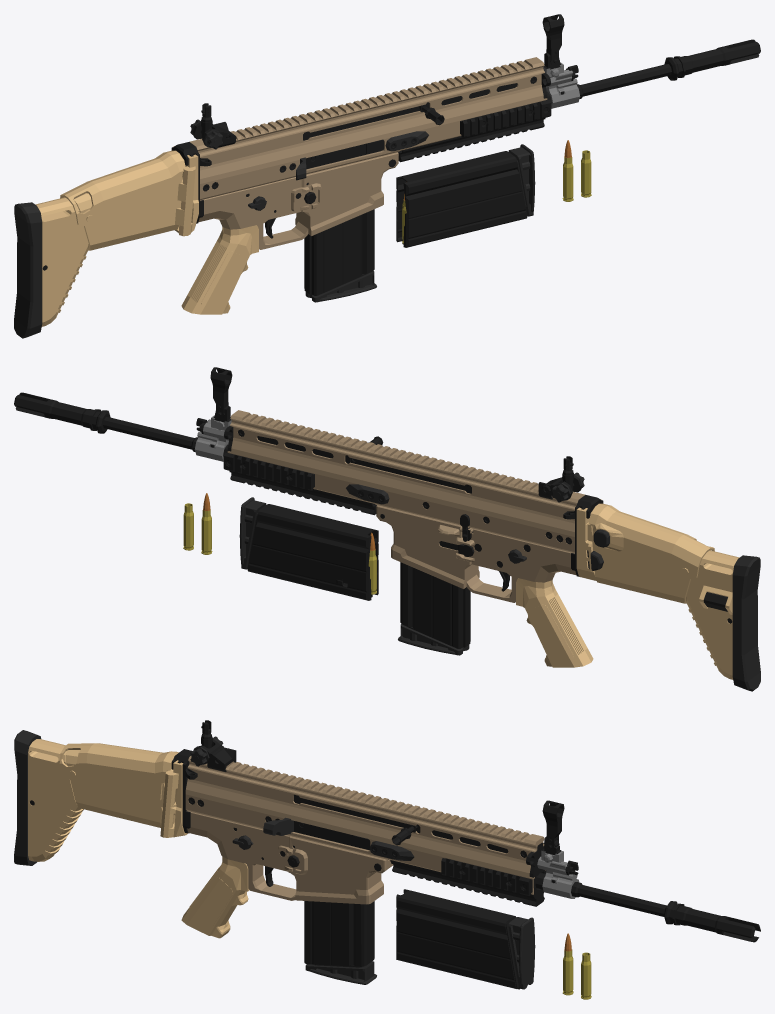
Rendered from fn_scar_h_std.glb.
3 renders of one model, top to bottom at view 1: azimuth 30°, elevation 25°; view 2: azimuth 150°, elevation 25°; view 3: azimuth 330°, elevation 25°, orthographic.
Visible parts, largest first — view 1: scarhstd upper receiver_16, 76251 ar10 20rnd (scar)_11, scarhstd lower receiver_18, scarhstd stock butt_8, 76251 ar10 20rnd empty (scar)_10, scarhstd stock cheek_7, scarhstd pistol grip_0, scarhstd stock_9, scarhstd barrel_12, scarhstd bolt carrier_17, scarhstd flash hider_4, scarhstd rear iron sight_5 (+2 smaller); view 2: scarhstd upper receiver_16, 76251 ar10 20rnd (scar)_11, scarhstd lower receiver_18, scarhstd stock butt_8, scarhstd stock cheek_7, 76251 ar10 20rnd empty (scar)_10, scarhstd pistol grip_0, scarhstd stock_9, scarhstd barrel_12, scarhstd flash hider_4, scarhstd bolt carrier_17, scarhstd rear iron sight_5 (+2 smaller); view 3: scarhstd upper receiver_16, 76251 ar10 20rnd (scar)_11, scarhstd lower receiver_18, scarhstd stock butt_8, 76251 ar10 20rnd empty (scar)_10, scarhstd stock cheek_7, scarhstd pistol grip_0, scarhstd barrel_12, scarhstd stock_9, scarhstd bolt carrier_17, scarhstd flash hider_4, scarhstd rear iron sight_5 (+3 smaller).
Boxes of the visible parts, x1,y1,x2,y2 form: scarhstd upper receiver_16: (171,57,551,236); 76251 ar10 20rnd (scar)_11: (396,144,535,247); scarhstd lower receiver_18: (198,152,398,249); scarhstd stock butt_8: (14,197,88,338); 76251 ar10 20rnd empty (scar)_10: (304,209,376,302); scarhstd stock cheek_7: (60,150,185,226); scarhstd pistol grip_0: (181,225,258,314); scarhstd stock_9: (74,177,194,250); scarhstd barrel_12: (366,53,671,154); scarhstd bolt carrier_17: (303,83,517,169); scarhstd flash hider_4: (664,39,760,80); scarhstd rear iron sight_5: (190,103,235,149); scarhstd upper receiver_16: (223,410,603,580); 76251 ar10 20rnd (scar)_11: (239,497,378,600); scarhstd lower receiver_18: (376,505,576,602); scarhstd stock butt_8: (686,550,760,691); scarhstd stock cheek_7: (588,503,714,579); 76251 ar10 20rnd empty (scar)_10: (398,562,470,655); scarhstd pistol grip_0: (516,578,593,667); scarhstd stock_9: (587,531,690,603); scarhstd barrel_12: (103,406,231,461); scarhstd flash hider_4: (14,392,110,433); scarhstd bolt carrier_17: (257,436,471,493); scarhstd rear iron sight_5: (538,456,584,502); scarhstd upper receiver_16: (160,749,546,906); 76251 ar10 20rnd (scar)_11: (396,889,535,989); scarhstd lower receiver_18: (187,811,393,904); scarhstd stock butt_8: (14,730,83,865); 76251 ar10 20rnd empty (scar)_10: (304,901,376,984); scarhstd stock cheek_7: (59,743,178,801); scarhstd pistol grip_0: (181,856,249,938); scarhstd barrel_12: (354,835,666,916); scarhstd stock_9: (66,750,175,828); scarhstd bolt carrier_17: (293,795,508,853); scarhstd flash hider_4: (664,901,760,942); scarhstd rear iron sight_5: (190,720,236,771).
Bounding box in the file's own units: 9.11 × 2.64 × 0.7308.
